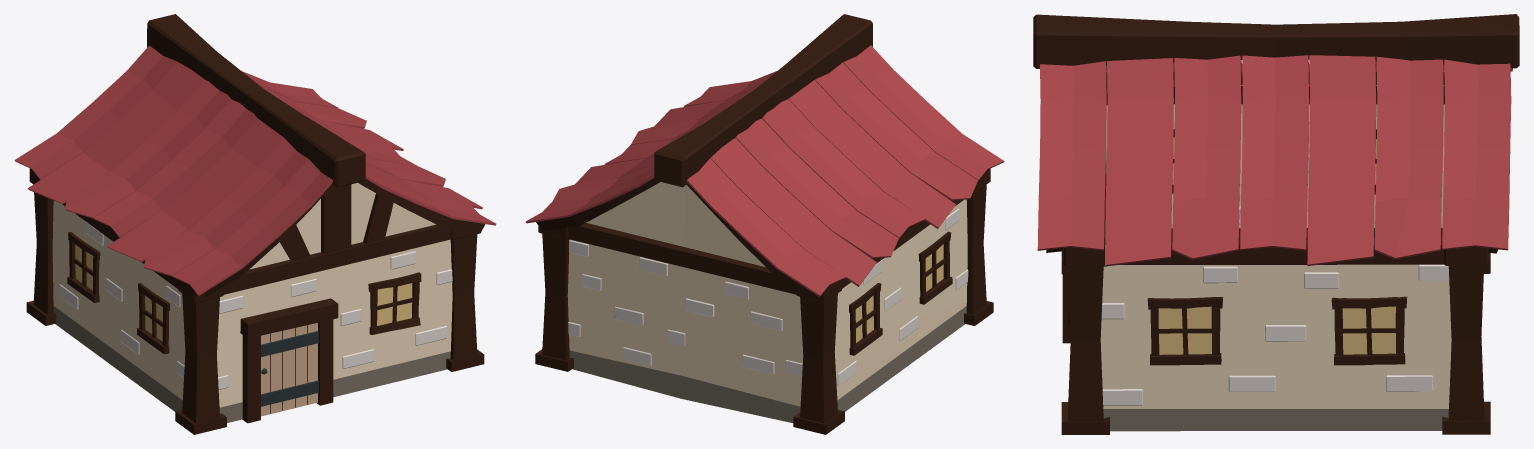
The model's file is house2.fbx.
3 renders of one model, left to right at view 1: azimuth 30°, elevation 25°; view 2: azimuth 150°, elevation 25°; view 3: azimuth 270°, elevation 25°, orthographic. The views are drawn at different scales.
Parts seen in each view (by area): view 1: Buildings.003; view 2: Buildings.003; view 3: Buildings.003.
Boxes of the visible parts, left/top/right/bottom form: Buildings.003: left=14, top=14, right=496, bottom=434; Buildings.003: left=525, top=14, right=1004, bottom=434; Buildings.003: left=1033, top=14, right=1519, bottom=434.
Size of the model in its own units: 911 by 692 by 931.
